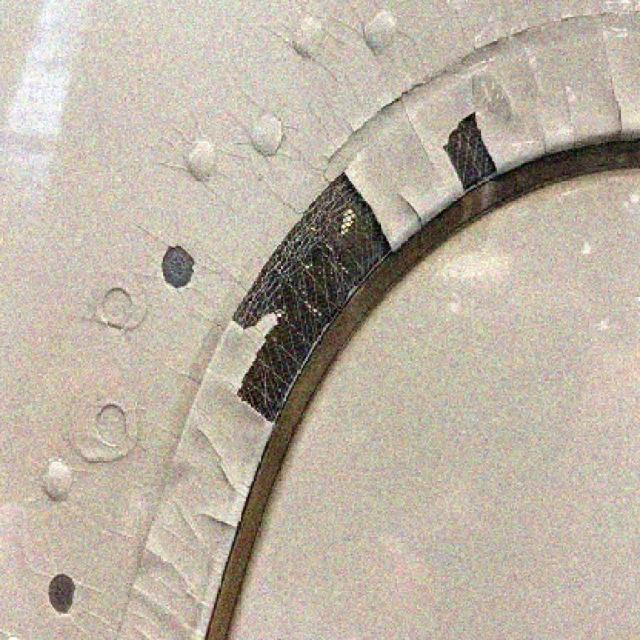crack: (400, 197, 423, 226), (198, 431, 223, 457), (202, 512, 235, 529), (218, 464, 235, 490)
